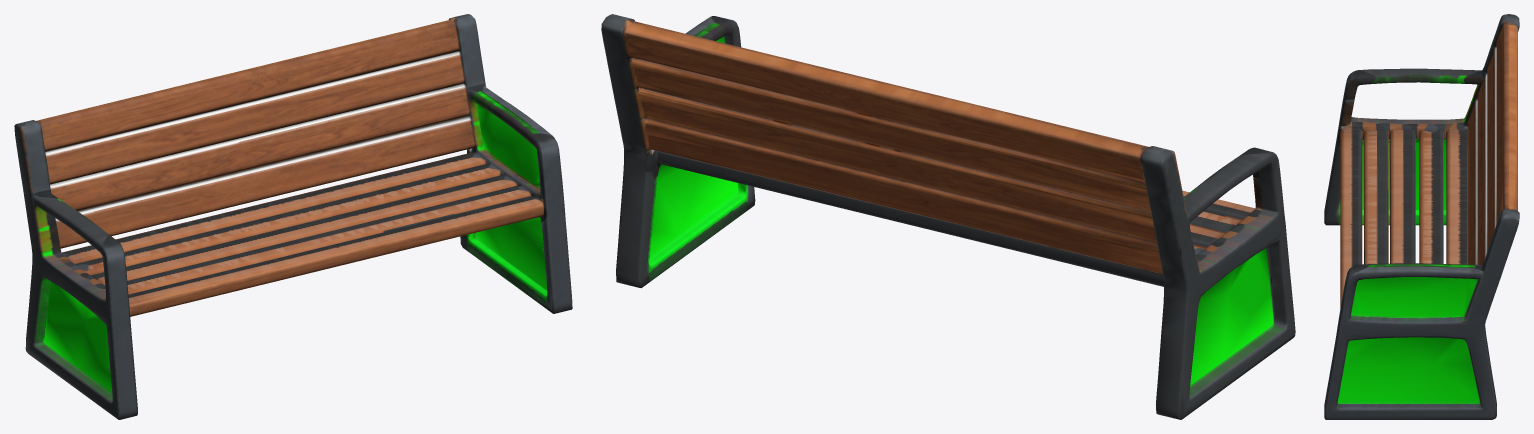
File: bench.glb
3 renders of one model, left to right at view 1: azimuth 30°, elevation 25°; view 2: azimuth 150°, elevation 25°; view 3: azimuth 270°, elevation 25°, orthographic. The views are drawn at different scales.
Parts seen in each view (by area): view 1: low; view 2: low; view 3: low.
Boxes of the visible parts, x1,y1,x2,y2 form: low: [14, 14, 572, 419]; low: [601, 14, 1295, 419]; low: [1324, 14, 1519, 419].
Size of the model in its own units: 1.87 by 0.8756 by 0.7612.
Materials: 1 (1 with a texture image).
